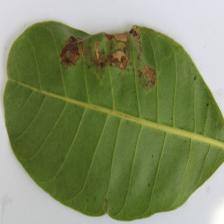leaf miner: (2, 20, 224, 222)
